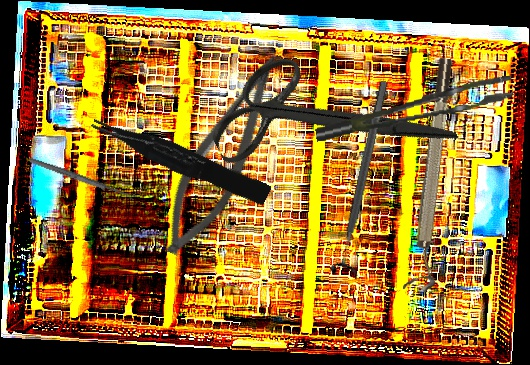Fixation Ring: (402, 56, 467, 294), (327, 77, 400, 280)
Iris Scissors: (193, 0, 460, 241)
Micro Scissor: (151, 40, 292, 267)
Surgical Spoon: (28, 156, 137, 202)
Tissue Forceps: (89, 104, 272, 213), (311, 75, 517, 142)
